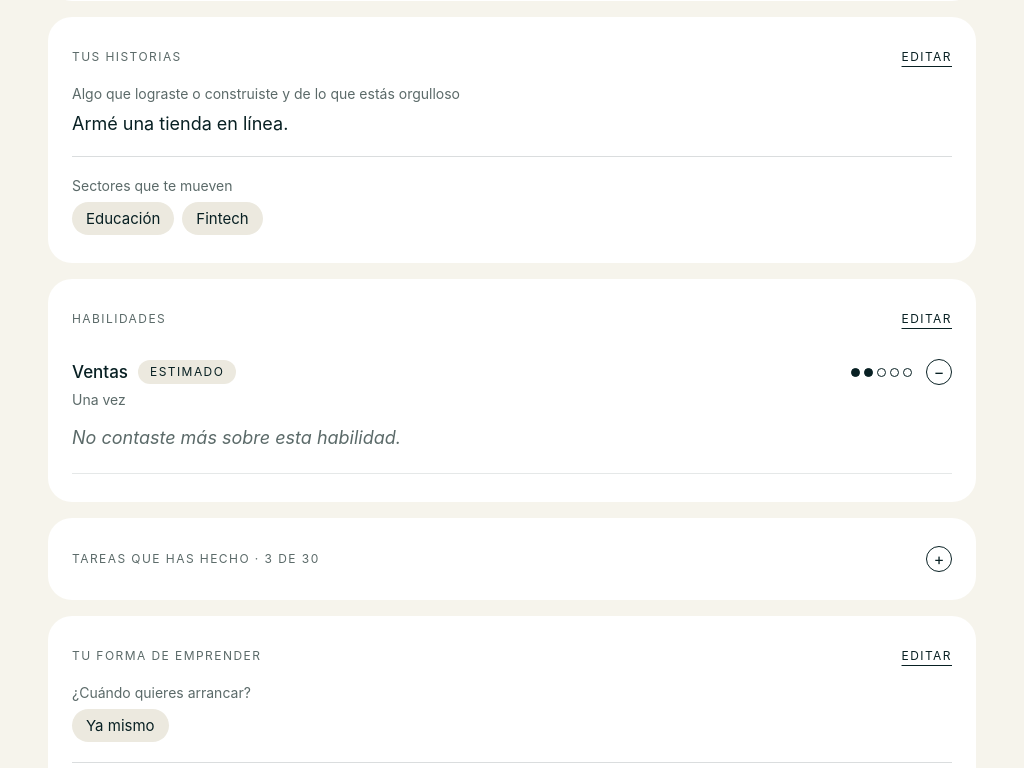
Test: MiPerfilView › Habilidades › si no contó nada de una habilidad fuerte, lo dice
(page scrolled)
Expected: the text "No contaste más sobre esta habilidad." is shown, [72,427,401,448]
Click the button "Ventas Estimado − Una vez": (100, 372) [72,345,952,424]
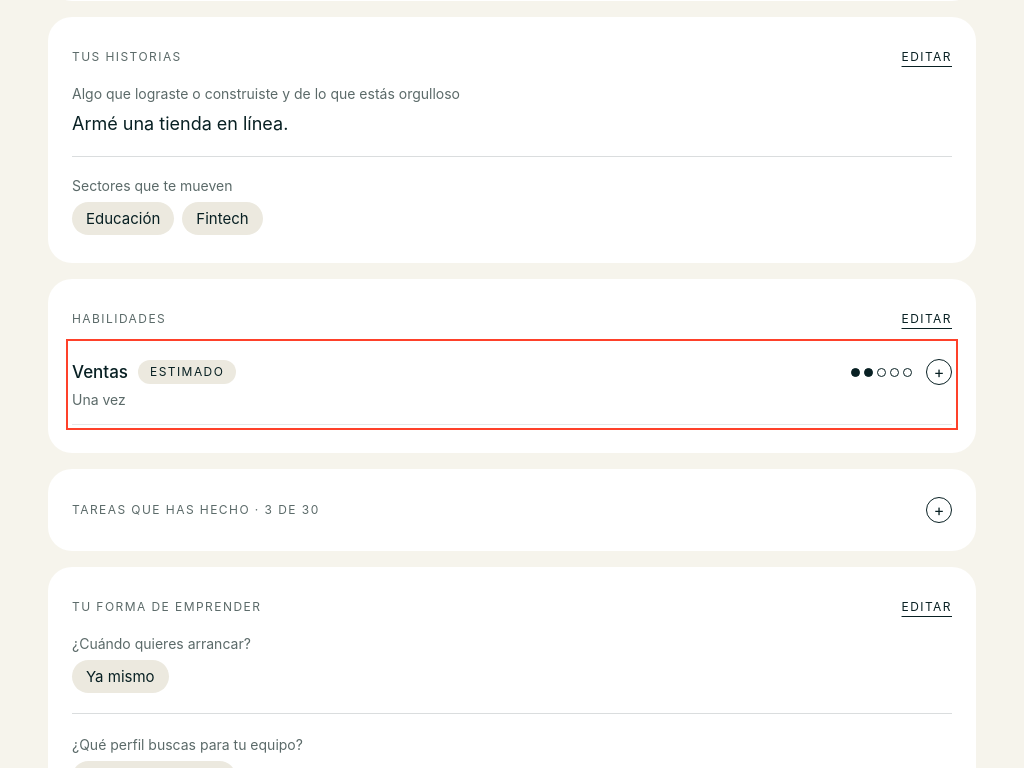
Now the text "No contaste más sobre esta habilidad." is gone
